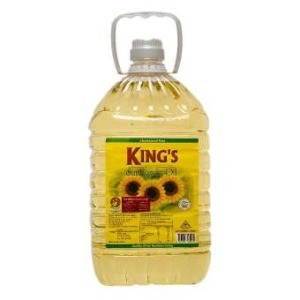vegetable oil_brain food: (91, 109, 209, 269)
